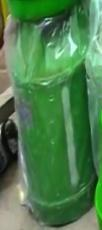cylinder: (1, 0, 102, 230)
